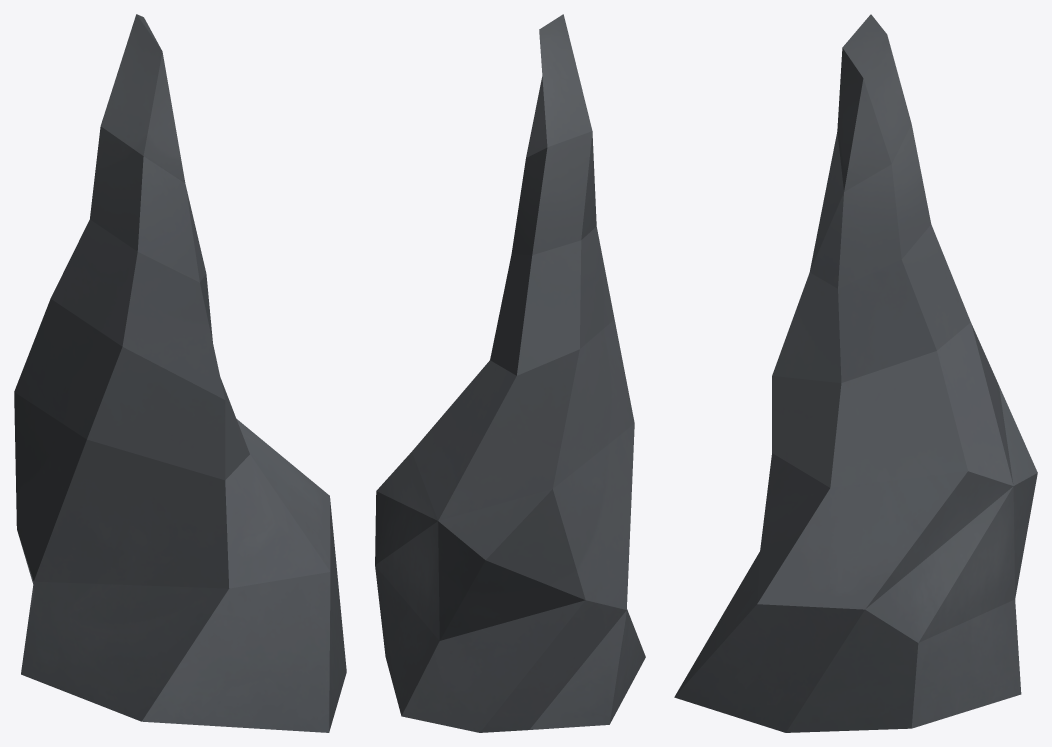
Rendered from Stalagmite_Small.fbx.
The picture shows the model from 3 angles, left to right: view 1: azimuth 30°, elevation 25°; view 2: azimuth 150°, elevation 25°; view 3: azimuth 270°, elevation 25°; orthographic projection. The views are drawn at different scales.
Parts seen in each view (by area): view 1: Stalagmite_Small; view 2: Stalagmite_Small; view 3: Stalagmite_Small.
Part boxes in pixels (x1,y1,x2,y2): Stalagmite_Small: [14, 14, 346, 732]; Stalagmite_Small: [375, 14, 645, 732]; Stalagmite_Small: [674, 14, 1037, 732].
Size of the model in its own units: 61.69 by 144 by 73.86.
